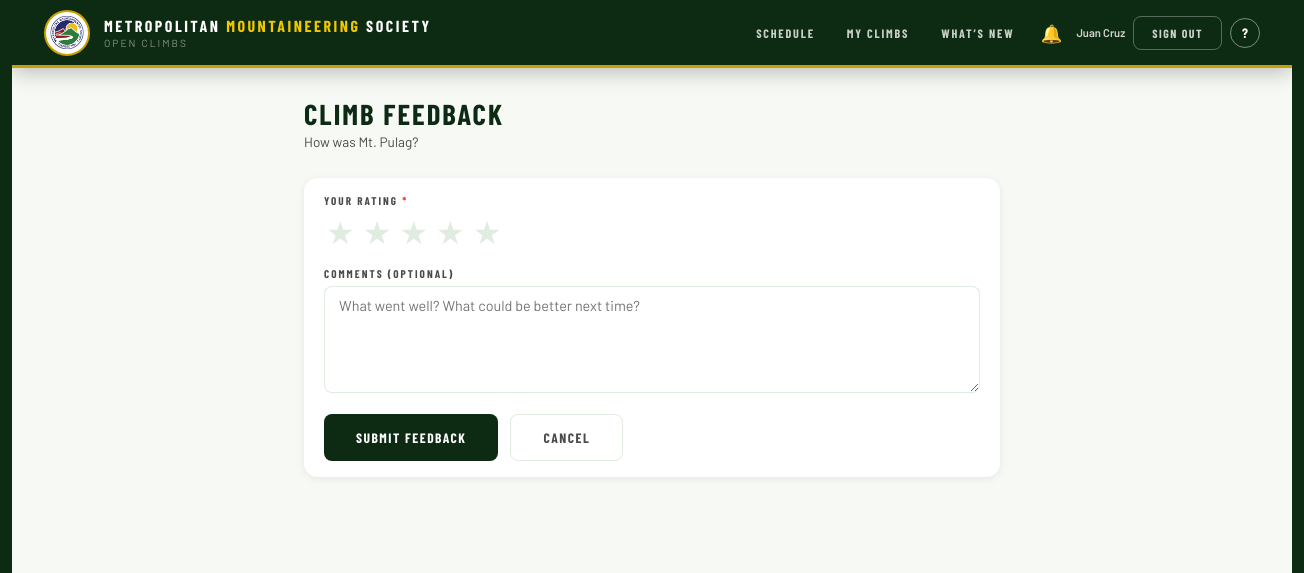
Test case: ClimbFeedback page › requires a rating before submitting
The image size is (1304, 573).
Click the button "Submit Feedback".
click(411, 437)  # box x1=324 y1=414 x2=498 y2=461
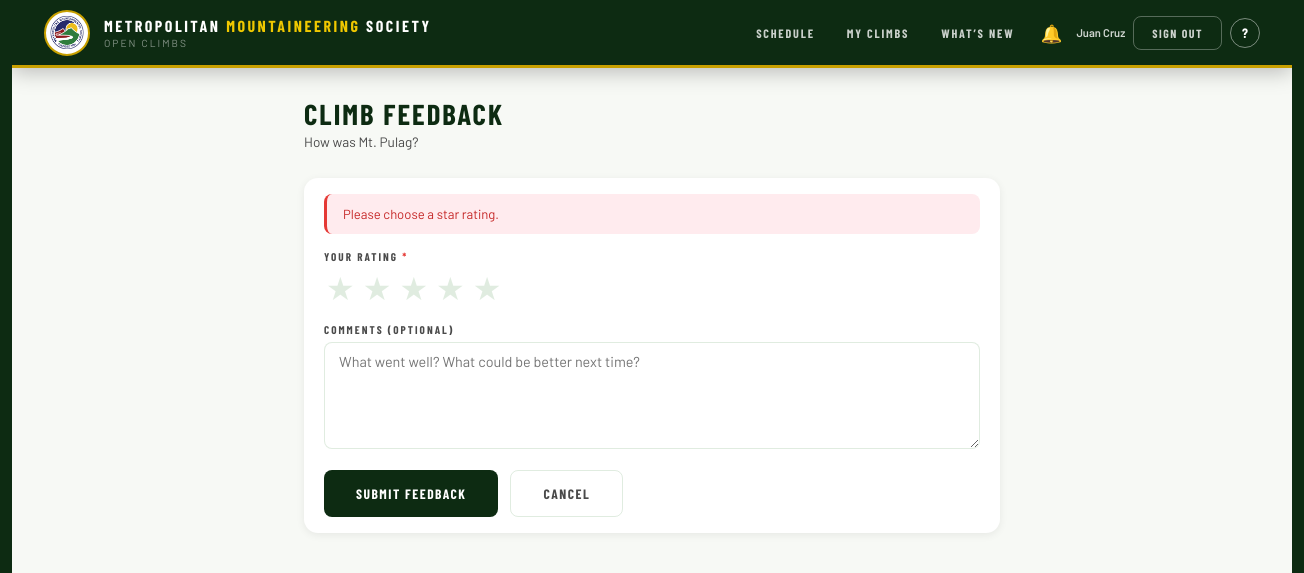
Check: the text "Please choose a star rating." is shown, box x1=324 y1=194 x2=980 y2=234
